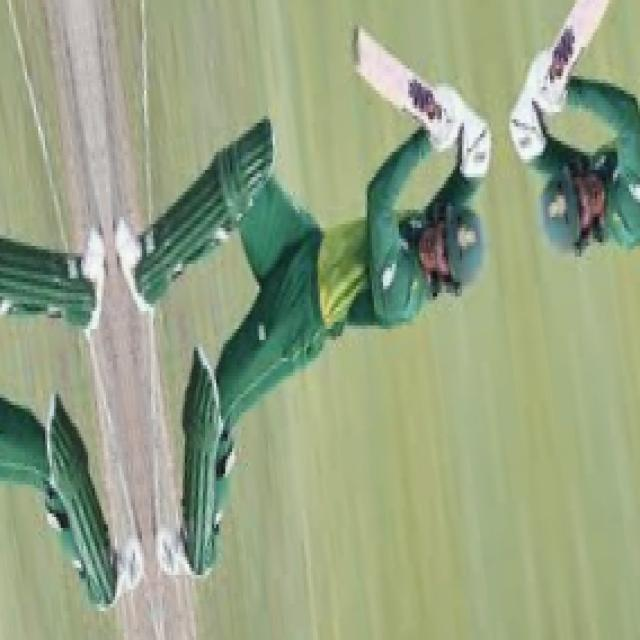toe: (346, 26, 409, 86)
